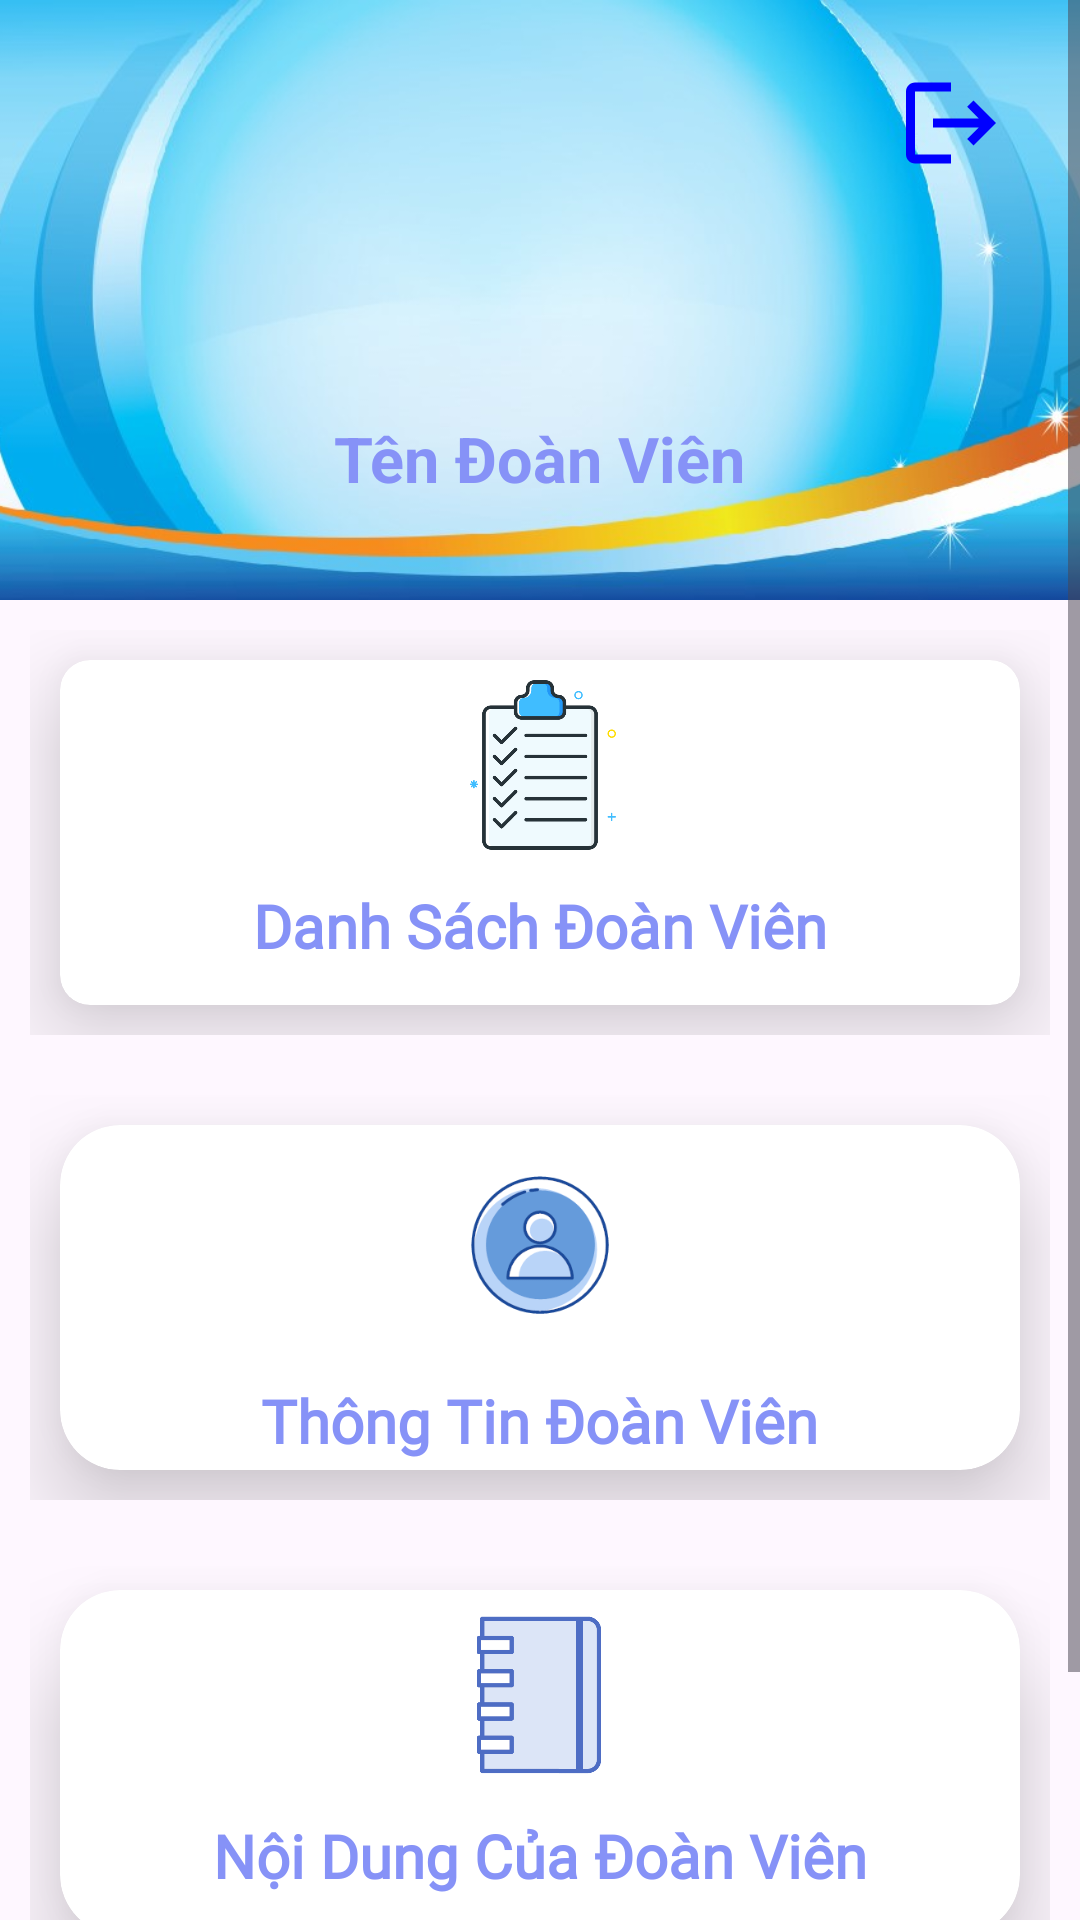

Where to tap for icons on this 1080*1920 app screen, as point (x, y):
checklist: point (543, 765)
notebook: point (539, 1694)
viewprofile: point (540, 1245)
